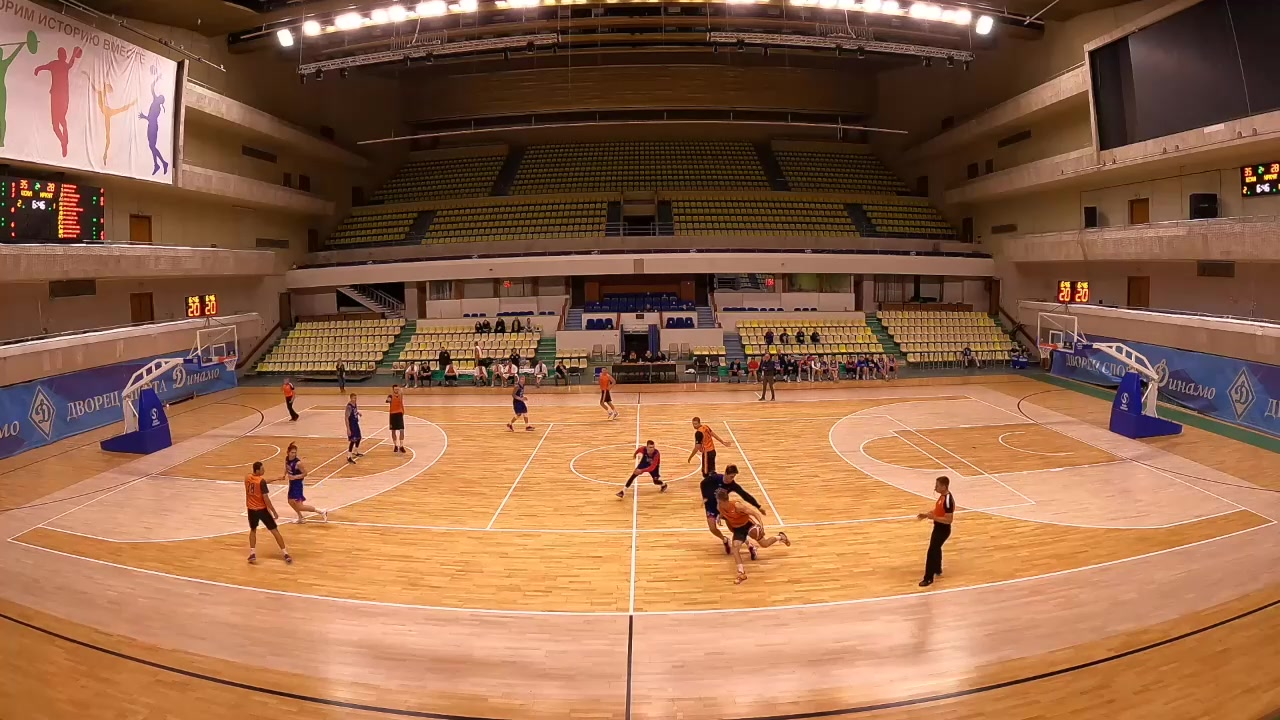basketball: (621, 514, 652, 546)
